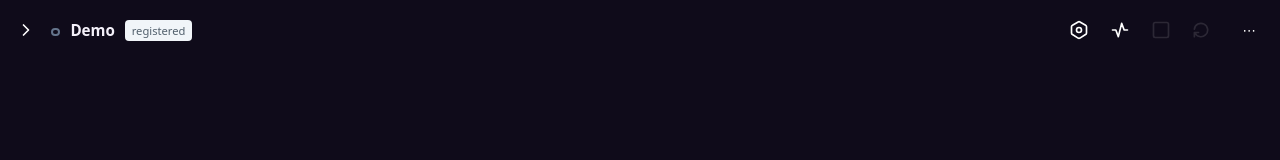
Test: registered project observations › honors the backend guard for duplicate registered profile tuples
The image size is (1280, 160).
Click the button named "Expand Demo" at coordinates (27, 30), box top-left (13, 17), bottom-right (41, 44)
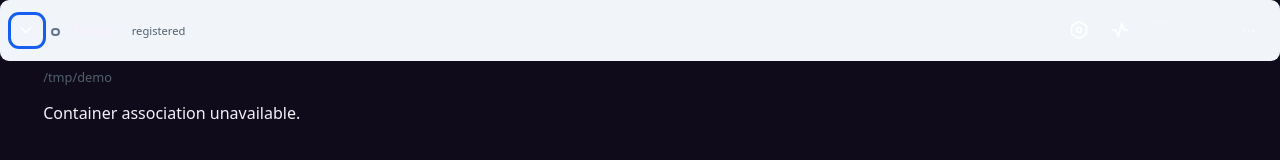
expect the text "Container association unavailable." is shown: met, box top-left (43, 102), bottom-right (300, 124)
